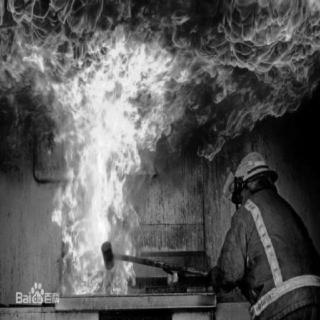other: (224, 151, 268, 197)
